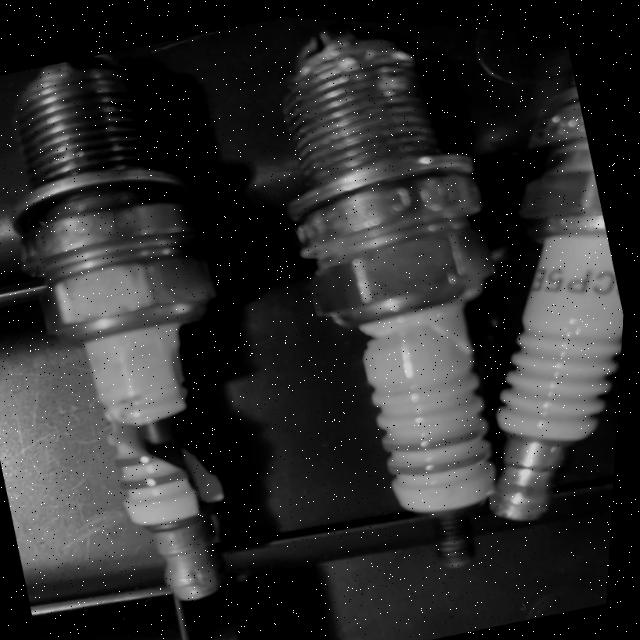damaged_spark-plug: (220, 12, 594, 618), (0, 28, 319, 640)
